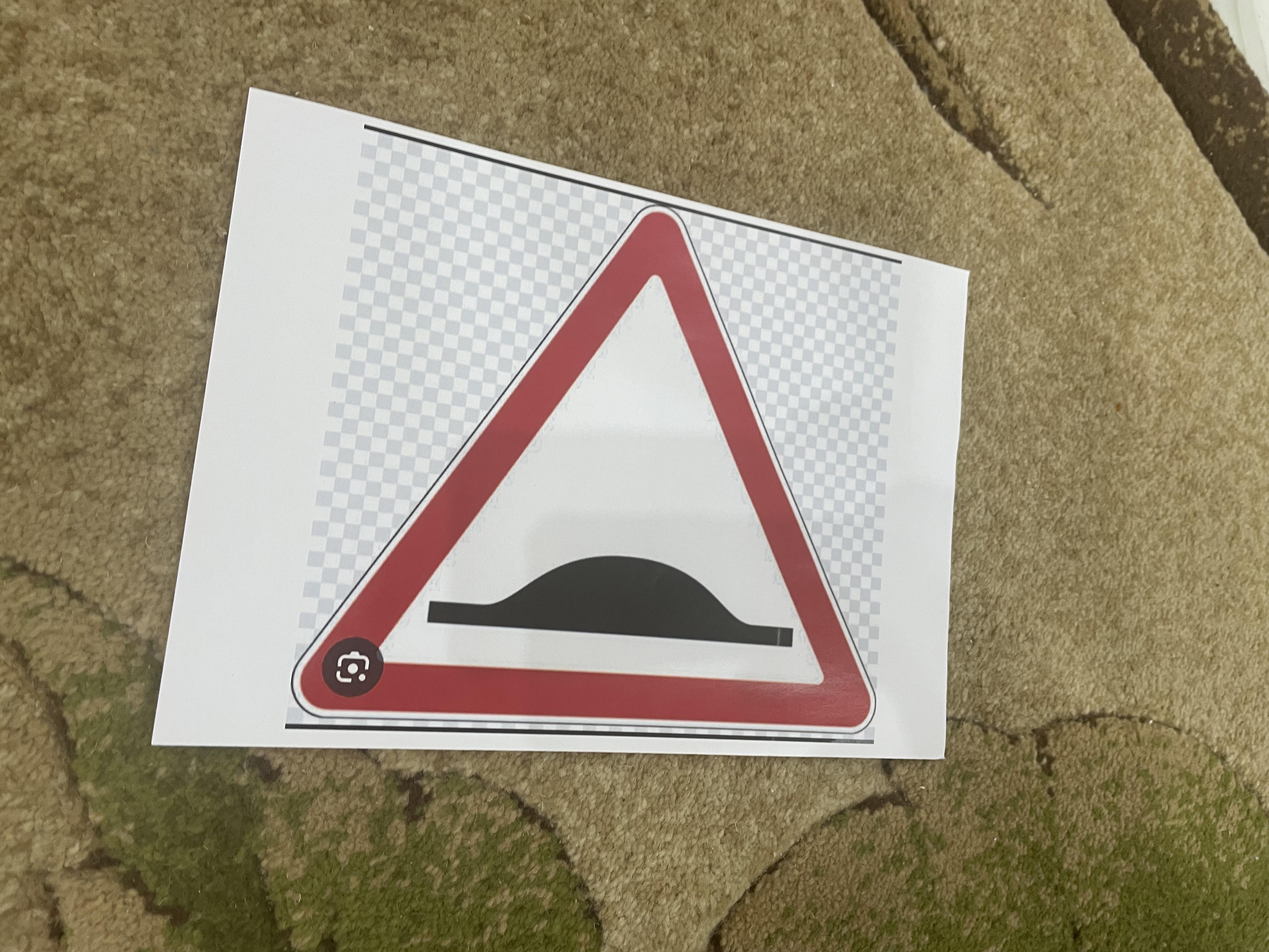Hump: (297, 214, 885, 721)
